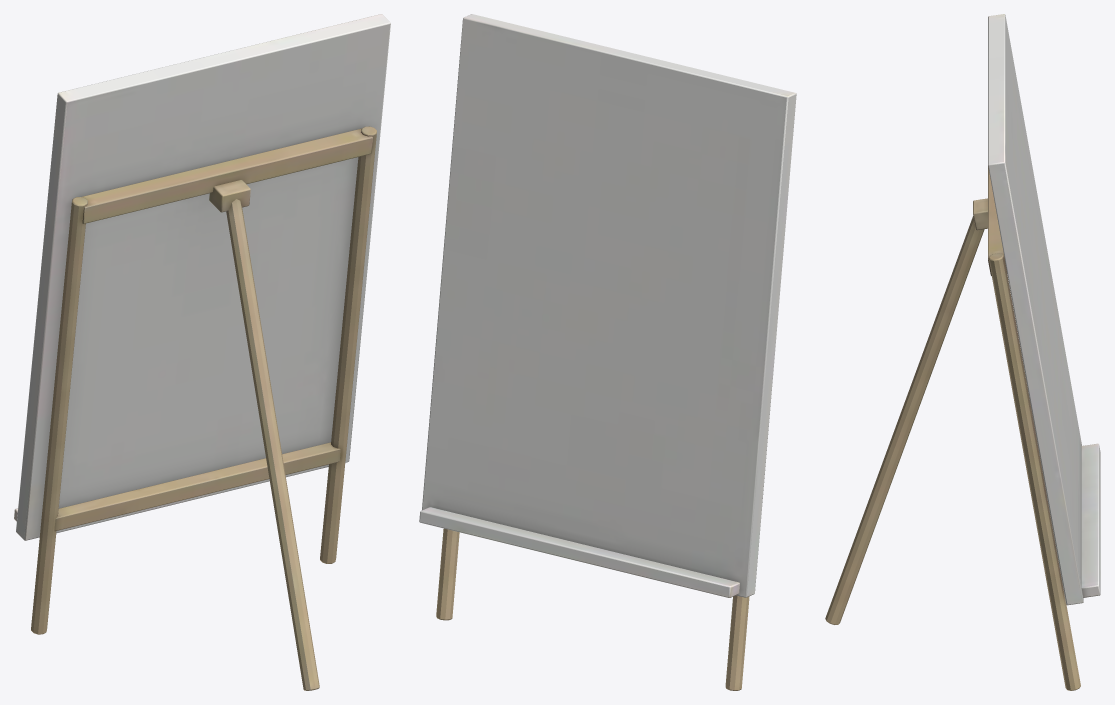
File: menu_easel.glb
The picture shows the model from 3 angles, left to right: view 1: azimuth 30°, elevation 25°; view 2: azimuth 150°, elevation 25°; view 3: azimuth 270°, elevation 25°; orthographic projection. The views are drawn at different scales.
Visible parts, largest first — view 1: menu_easel; view 2: menu_easel; view 3: menu_easel.
Part boxes in pixels (left/top/right/bottom): menu_easel: left=14, top=14, right=390, bottom=690; menu_easel: left=419, top=14, right=796, bottom=690; menu_easel: left=825, top=14, right=1100, bottom=690.
Size of the model in its own units: 0.9 by 1.51 by 0.7038.
Materials: 1 (1 with a texture image).
